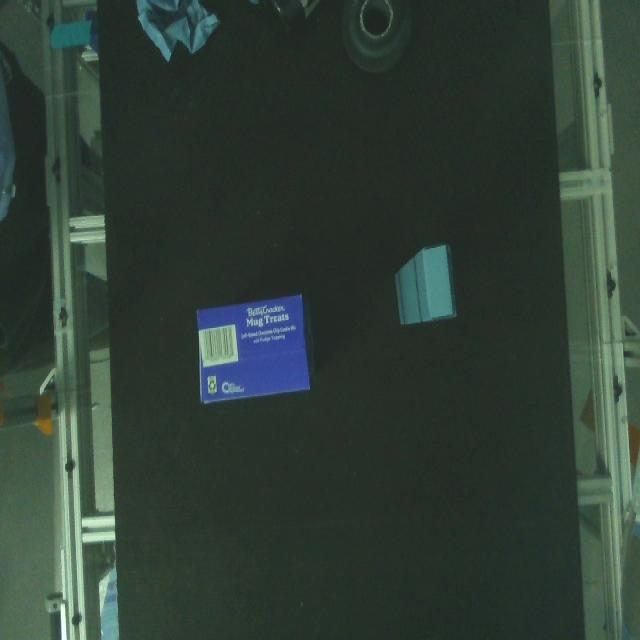non-paper: (338, 0, 412, 78)
paper: (191, 286, 311, 406), (391, 237, 465, 331), (132, 0, 222, 67)
